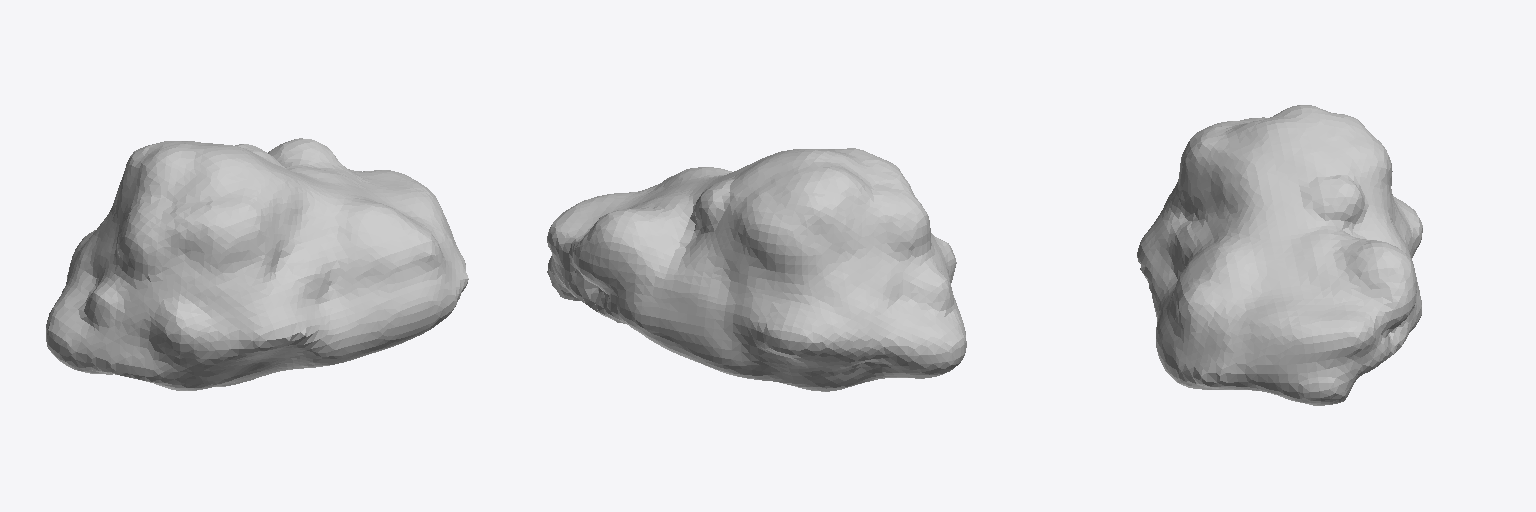
The model's file is cloud.obj.
The picture shows the model from 3 angles: view 1: azimuth 30°, elevation 25°; view 2: azimuth 150°, elevation 25°; view 3: azimuth 270°, elevation 25°; orthographic projection.
Parts seen in each view (by area): view 1: mesh_0; view 2: mesh_0; view 3: mesh_0.
Boxes of the visible parts, box(x1,y1,x2,y2) form: mesh_0: box(46, 138, 468, 390); mesh_0: box(547, 148, 966, 391); mesh_0: box(1137, 105, 1422, 405).
Size of the model in its own units: 0.9937 by 0.542 by 0.6212.